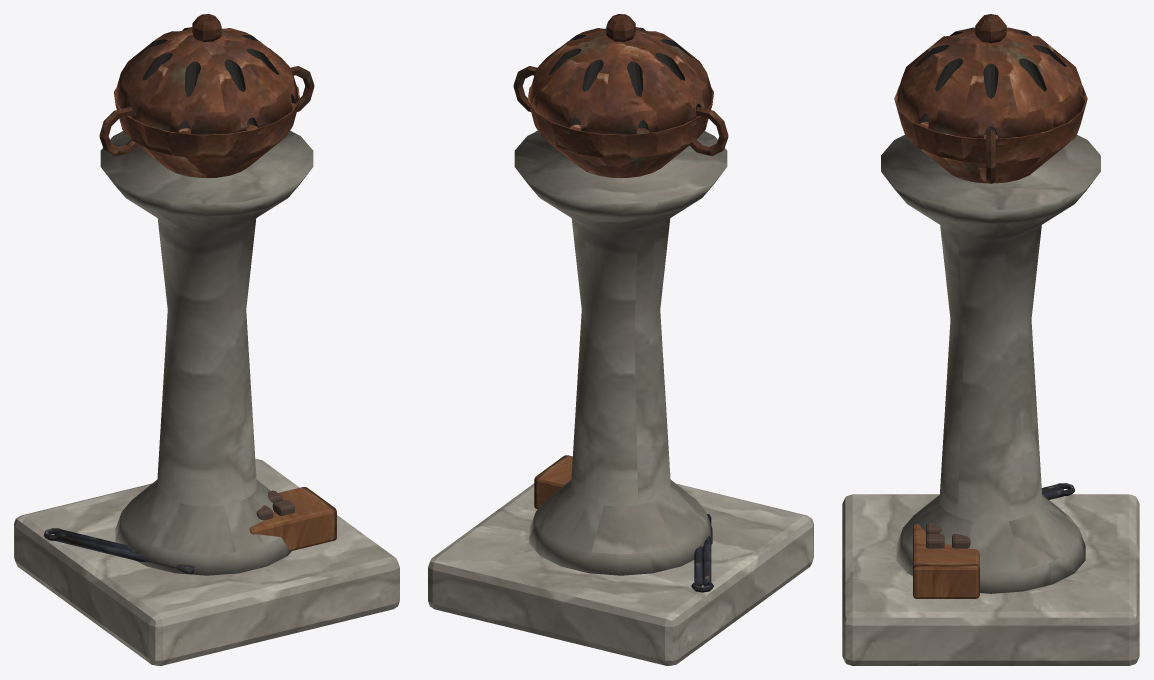
Rendered from qb_incense_stand.glb.
3 views of the same model, side by side, from view 1: azimuth 30°, elevation 25°; view 2: azimuth 150°, elevation 25°; view 3: azimuth 270°, elevation 25° (orthographic). The views are drawn at different scales.
Parts seen in each view (by area): view 1: model; view 2: model; view 3: model.
Part boxes in pixels (bbox=[...]): model: bbox=[14, 14, 399, 665]; model: bbox=[428, 14, 813, 665]; model: bbox=[842, 14, 1139, 665].
Size of the model in its own units: 0.4028 by 0.878 by 0.4.
Materials: 8 (6 with a texture image).
